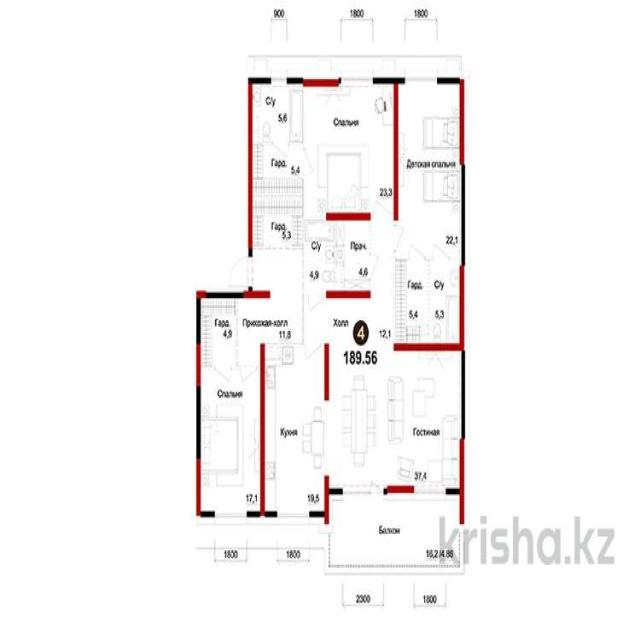balcony: (328, 490, 460, 571)
bathroom: (250, 80, 304, 144), (334, 218, 370, 296), (303, 214, 335, 296), (430, 262, 460, 348)
hallway: (302, 294, 397, 348), (237, 296, 303, 349)
kitchen: (264, 344, 328, 515)
living_room: (328, 351, 463, 489), (304, 81, 393, 216), (398, 82, 461, 264), (198, 366, 262, 516)
other: (252, 144, 302, 196), (399, 265, 430, 344), (201, 298, 236, 363), (251, 207, 304, 246)
